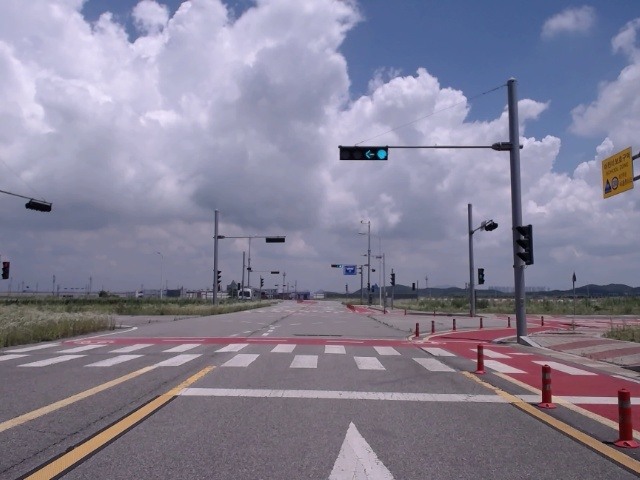all_green_4: (343, 147, 386, 160)
